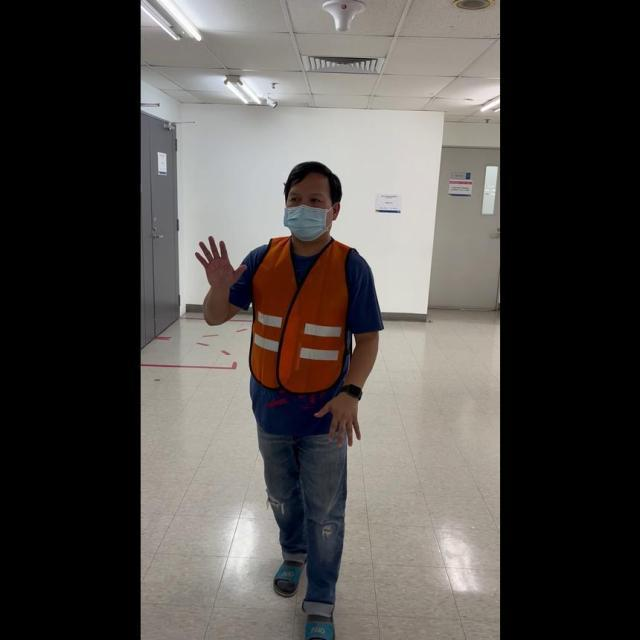bare_hand: (313, 385, 364, 446), (192, 232, 244, 289)
